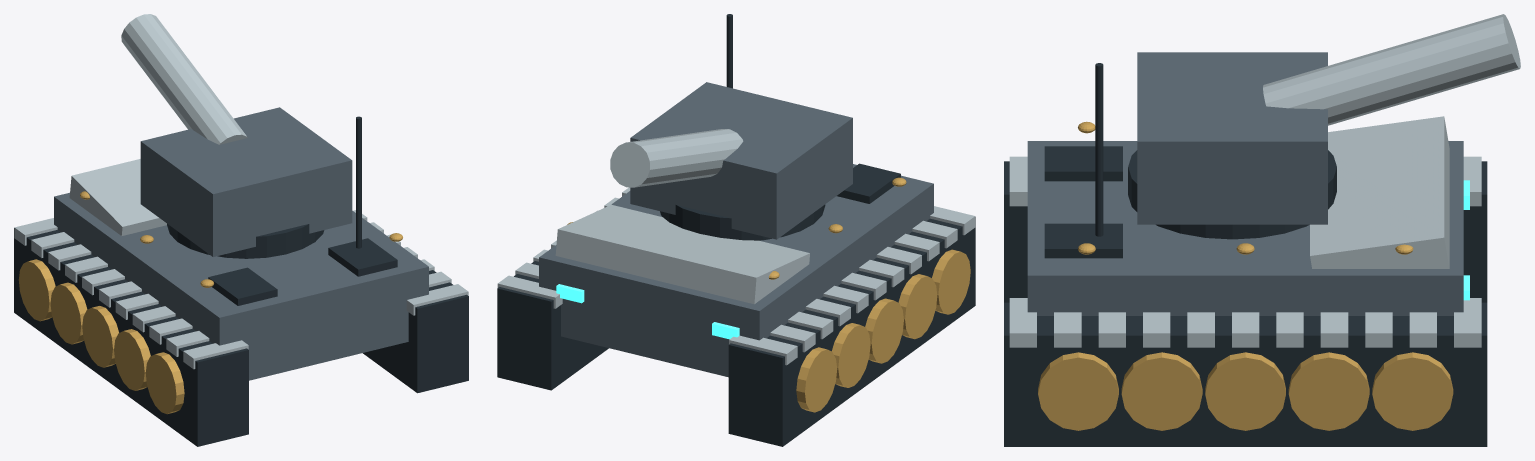
The model's file is artillery.glb.
3 renders of one model, left to right at view 1: azimuth 30°, elevation 25°; view 2: azimuth 150°, elevation 25°; view 3: azimuth 270°, elevation 25°, orthographic. The views are drawn at different scales.
Visible parts, largest first — view 1: armored lower hull, turret upper armor, carbon continuous track, howitzer, carbon continuous track.001, sloped glacis, turret ring, track road wheel, track road wheel.004, track road wheel.003, track road wheel.002, track road wheel.001 (+15 smaller); view 2: armored lower hull, turret upper armor, sloped glacis, carbon continuous track, carbon continuous track.001, howitzer, turret ring, track road wheel.004, track road wheel, track road wheel.003, track road wheel.001, track road wheel.002 (+14 smaller); view 3: armored lower hull, turret upper armor, carbon continuous track.001, sloped glacis, howitzer, track road wheel.008, track road wheel.006, track road wheel.009, track road wheel.007, track road wheel.005, carbon continuous track, turret ring (+16 smaller).
Part boxes in pixels (x1,y1,x2,y2): armored lower hull: (54,192,428,380); turret upper armor: (140,107,352,256); carbon continuous track: (14,228,248,446); howitzer: (121,14,247,144); carbon continuous track.001: (363,270,468,393); sloped glacis: (69,159,166,235); turret ring: (167,223,324,258); track road wheel: (145,352,184,414); track road wheel.004: (18,259,55,321); track road wheel.003: (50,282,87,344); track road wheel.002: (82,306,118,367); track road wheel.001: (114,329,150,390); armored lower hull: (539,164,933,377); turret upper armor: (630,82,852,239); sloped glacis: (555,204,809,304); carbon continuous track: (728,217,975,446); carbon continuous track.001: (497,261,608,390); howitzer: (610,129,743,187); turret ring: (660,204,825,240); track road wheel.004: (796,347,837,412); track road wheel: (932,249,970,314); track road wheel.003: (831,323,870,387); track road wheel.001: (898,274,937,339); track road wheel.002: (865,298,903,363); armored lower hull: (1027,141,1463,315); turret upper armor: (1137,52,1327,224); carbon continuous track.001: (1004,302,1487,446); sloped glacis: (1310,116,1449,268); howitzer: (1263,14,1520,125); track road wheel.008: (1288,352,1369,430); track road wheel.006: (1121,352,1202,430); track road wheel.009: (1372,352,1453,430); track road wheel.007: (1205,352,1285,430); track road wheel.005: (1038,352,1118,430); carbon continuous track: (1004,161,1487,302); turret ring: (1128,150,1336,239).
Bounding box in the file's own units: 1.68 × 1.45 × 1.98.
